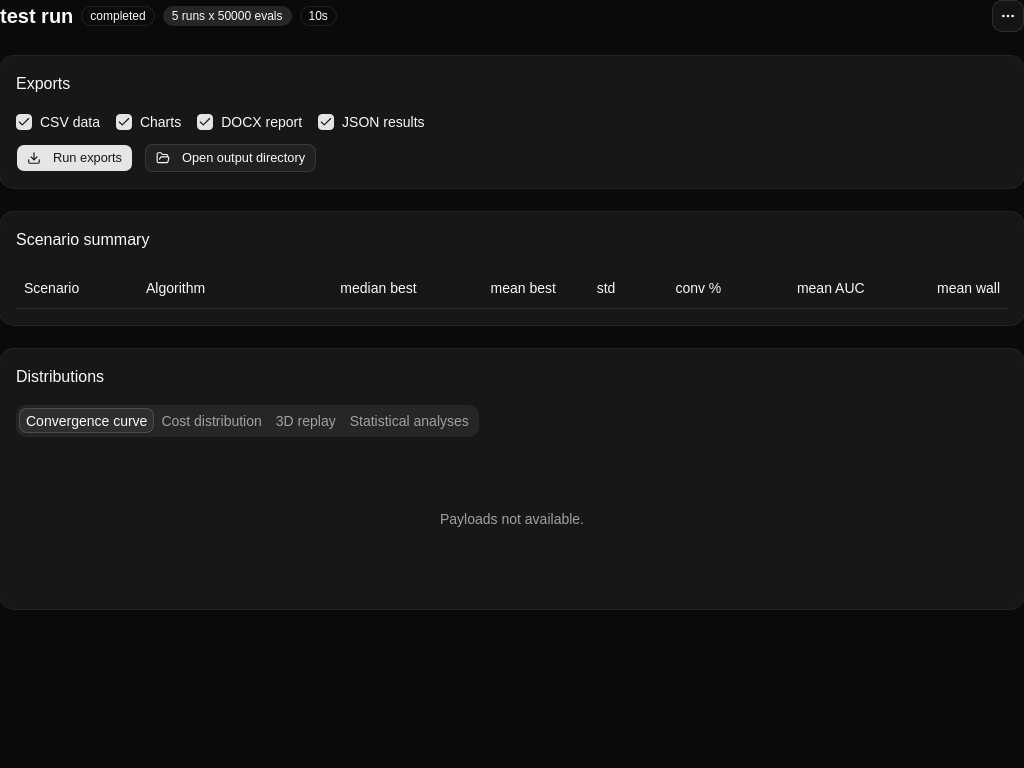
Scenario: RunDetail analyses › shows a computing state while the analysis is pending
Click the tab "Statistical analyses" at (409, 420), box [343,408,476,433]
(page scrolled)
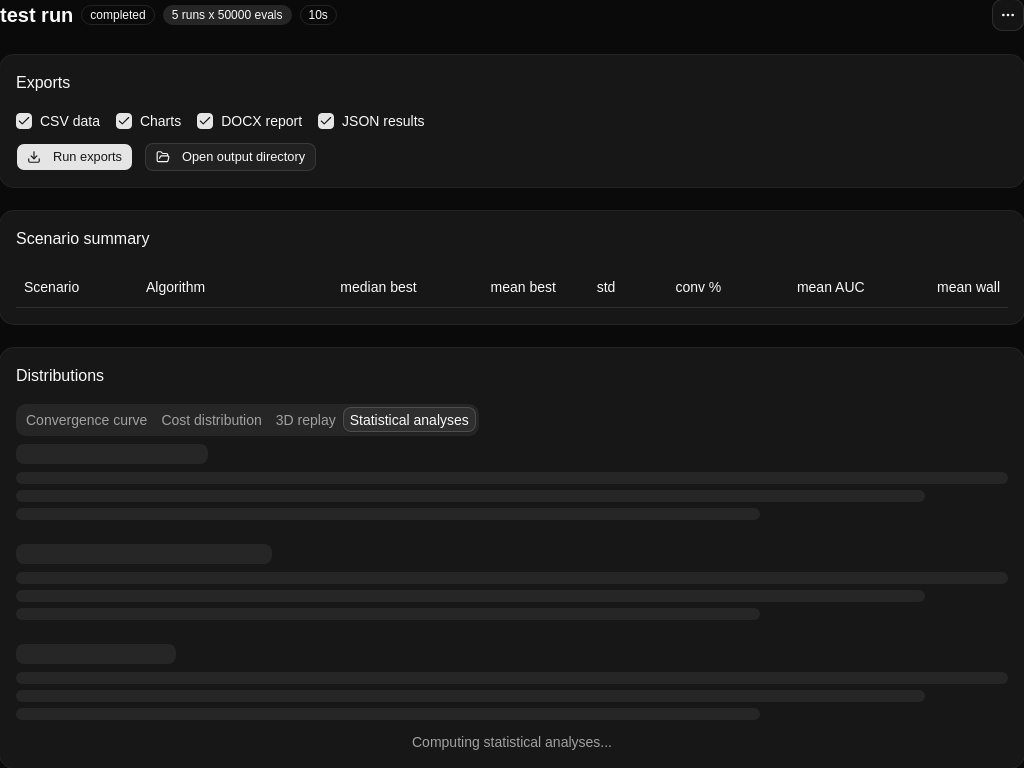
expect the text "Computing statistical analyses..." is shown: met, box [412,734,612,750]
